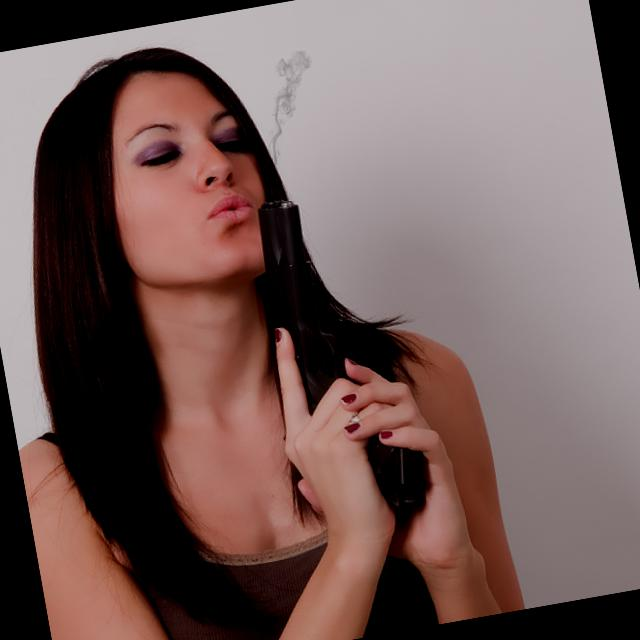handgun: (245, 183, 432, 529)
